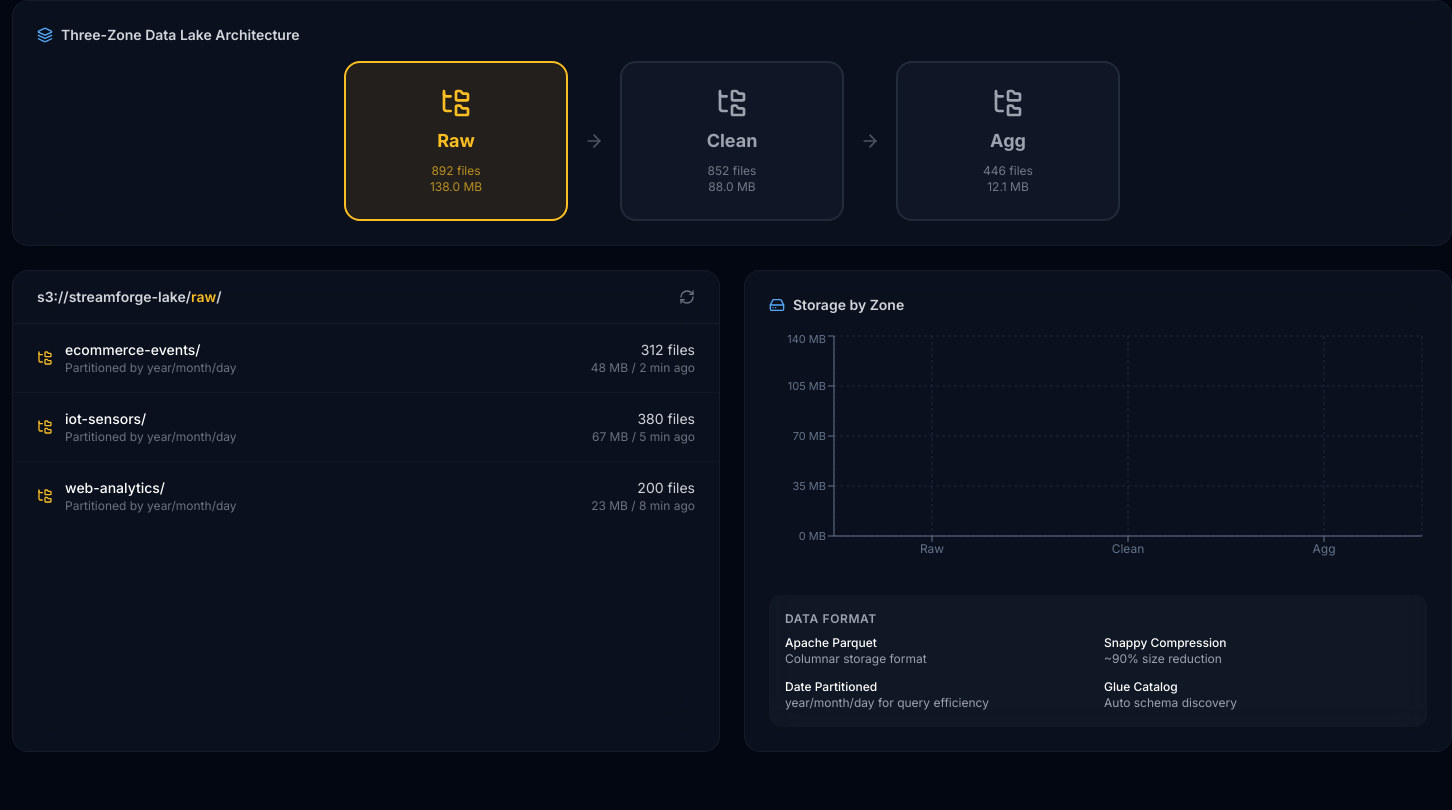
Test: DataExplorer › clicking clean zone updates file browser with clean data
Click the text "clean" at (732, 141), box [707, 127, 757, 155]
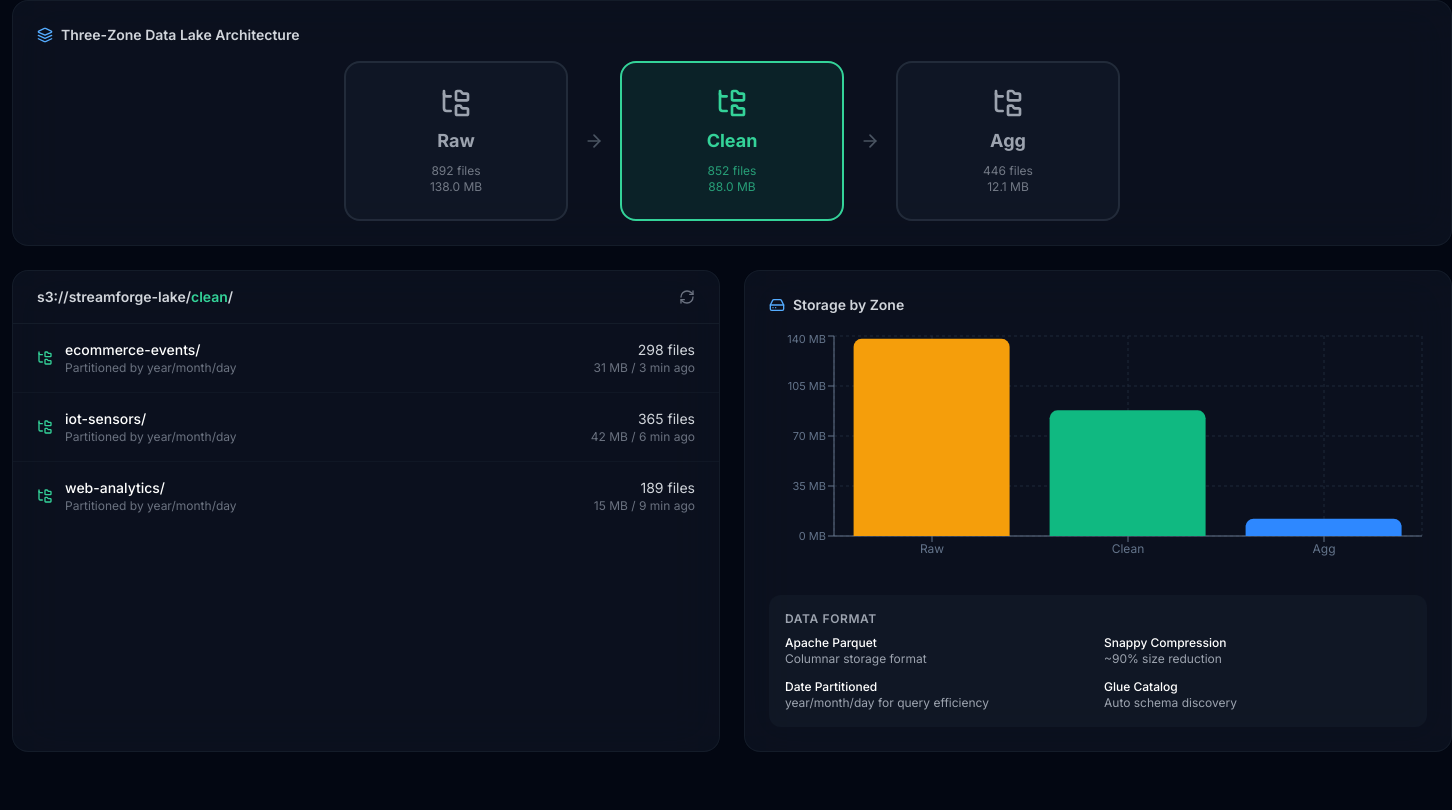
Now the text "298 files" is shown, box [638, 341, 695, 358]
Now the text "365 files" is shown, box [638, 410, 695, 427]
Now the text "189 files" is shown, box [640, 479, 695, 496]
